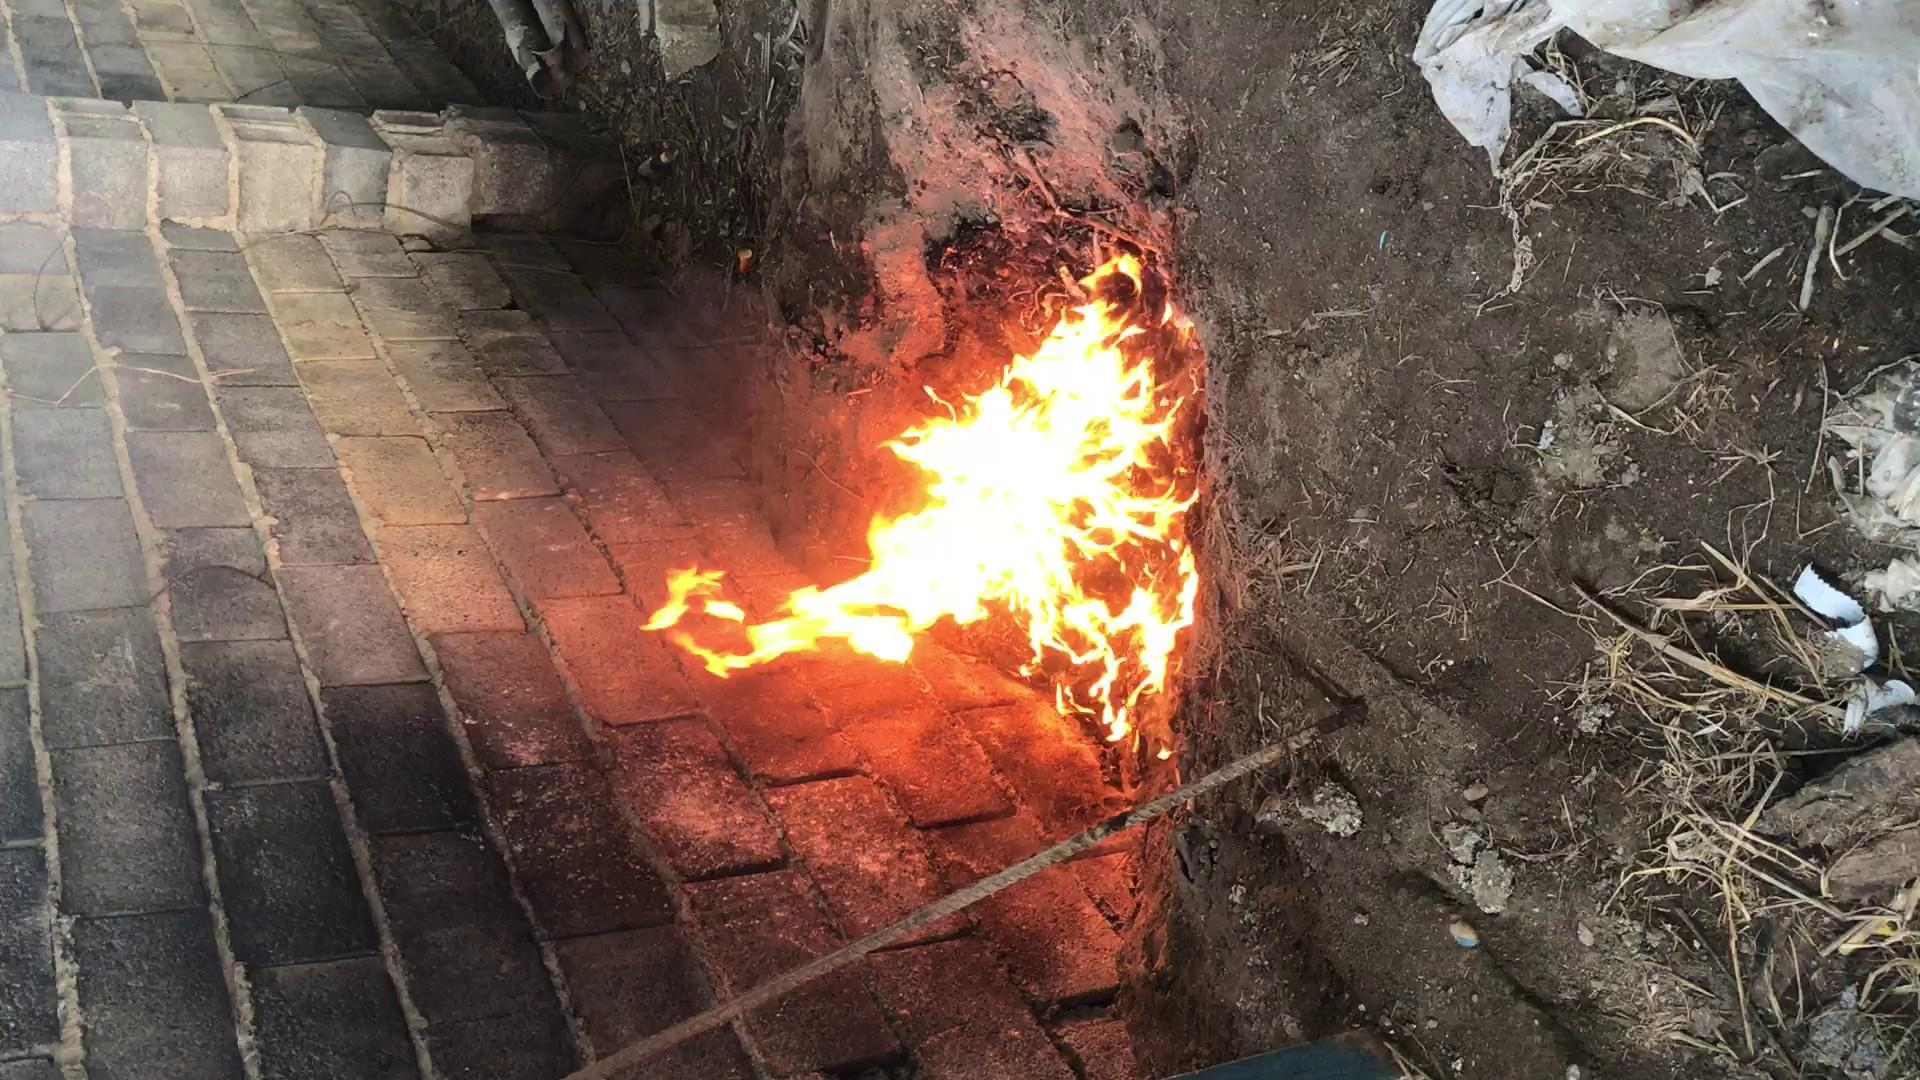fire: (604, 364, 1402, 673)
